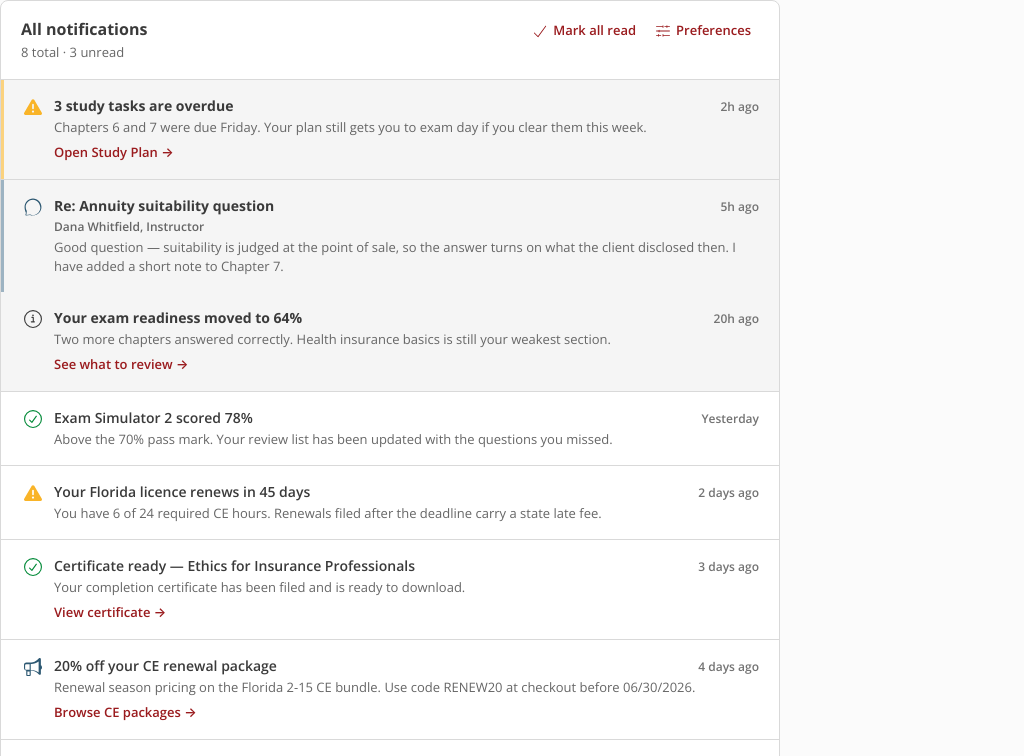
notification preferences › says on the page that the list is filtered
This screenshot has width=1024, height=756.
Click the button "Preferences" at (704, 31), box top-left (648, 17), bottom-right (759, 44)
(page scrolled)
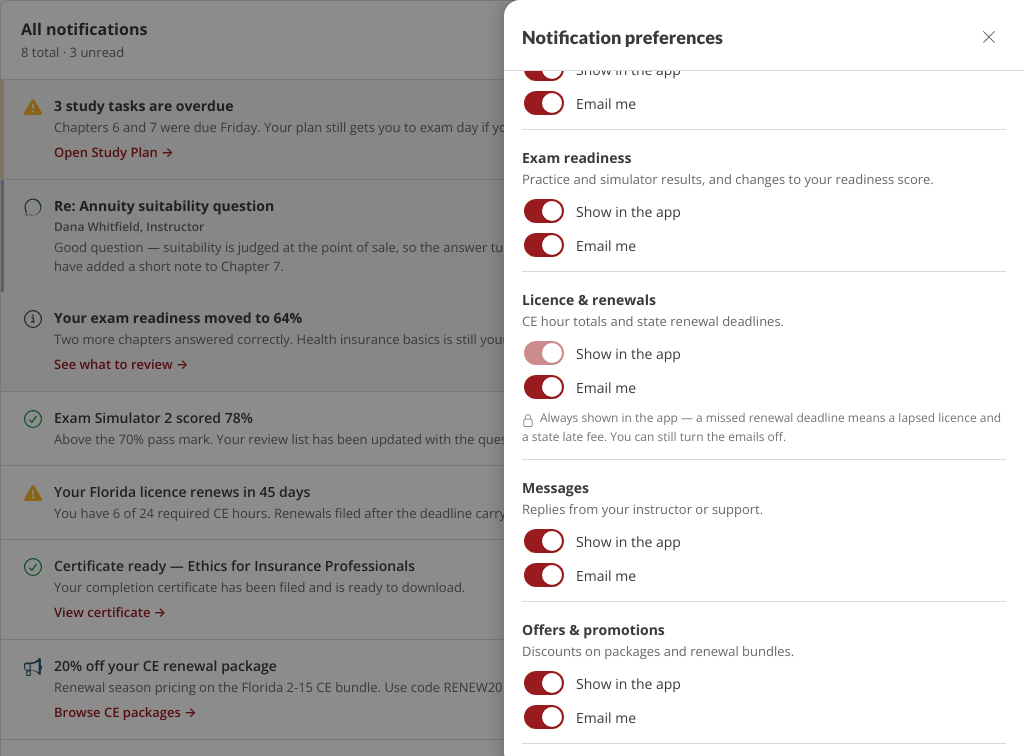
Click the switch named "Show in the app" below "Offers & promotions" at (544, 683), box top-left (524, 671), bottom-right (564, 695)
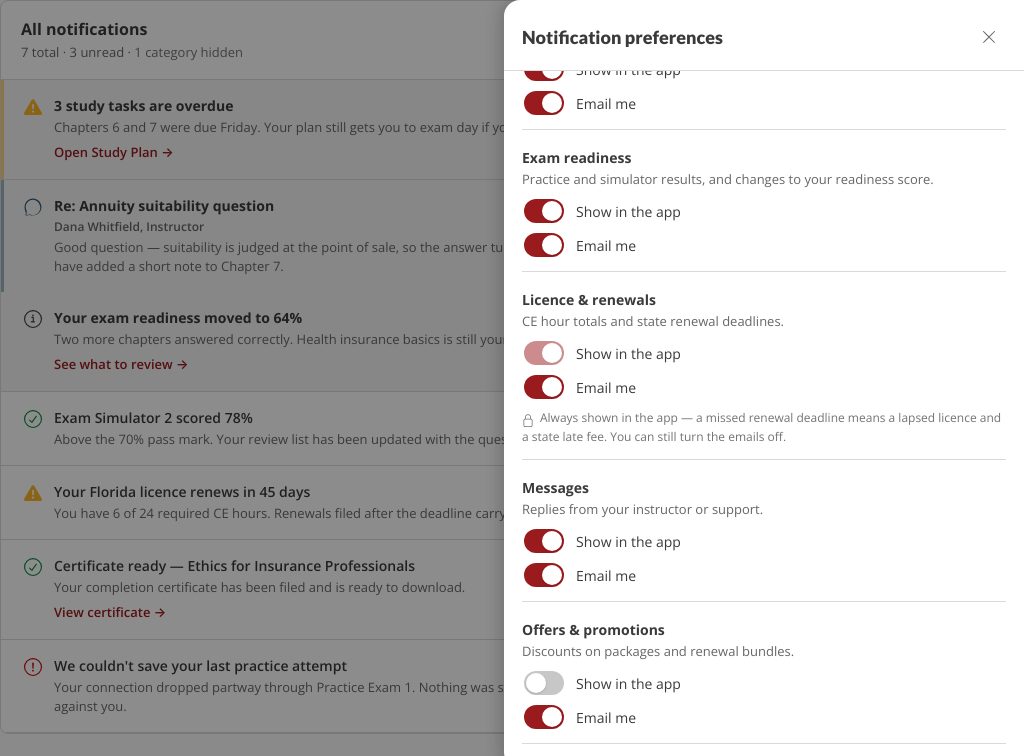
Expected: the text "1 category hidden" is shown, top-left (134, 43), bottom-right (243, 61)
